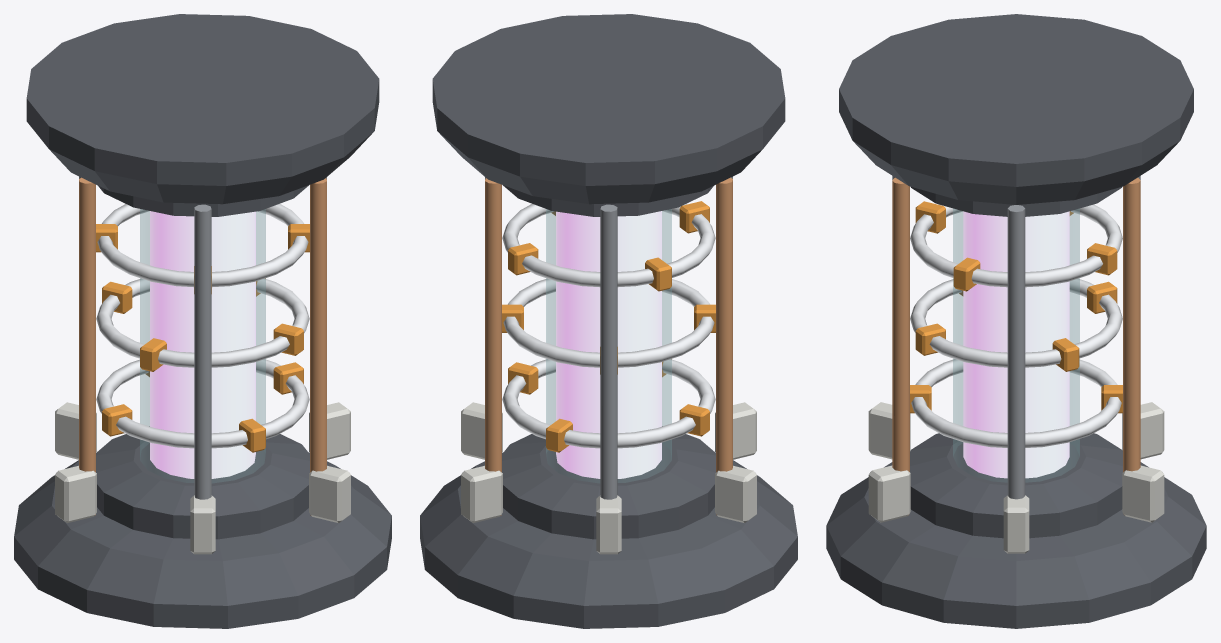
The model's file is reactor.glb.
The picture shows the model from 3 angles, left to right: view 1: azimuth 30°, elevation 25°; view 2: azimuth 150°, elevation 25°; view 3: azimuth 270°, elevation 25°; orthographic projection.
Visible parts, largest first — view 1: reactor, spin1, spin0, spin2; view 2: reactor, spin0, spin2, spin1; view 3: reactor, spin1, spin2, spin0.
Part boxes in pixels (left/top/right/bottom): reactor: left=14, top=14, right=391, bottom=628; spin1: left=96, top=278, right=309, bottom=371; spin0: left=96, top=359, right=309, bottom=452; spin2: left=96, top=203, right=309, bottom=293; reactor: left=420, top=14, right=797, bottom=628; spin0: left=502, top=359, right=715, bottom=452; spin2: left=502, top=201, right=715, bottom=291; spin1: left=502, top=278, right=715, bottom=374; reactor: left=826, top=14, right=1206, bottom=628; spin1: left=910, top=278, right=1122, bottom=371; spin2: left=910, top=201, right=1122, bottom=291; spin0: left=910, top=359, right=1122, bottom=447.
Bounding box in the file's own units: 3 × 4 × 3.
